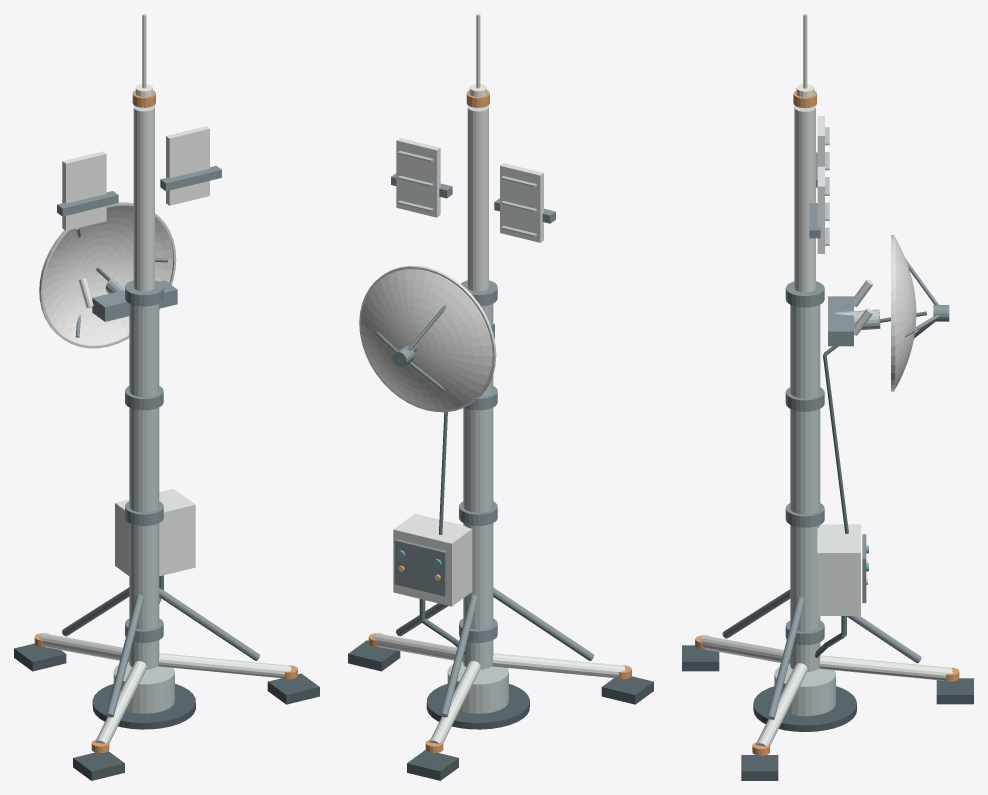
The model's file is comms_antenna.glb.
3 views of the same model, side by side, from view 1: azimuth 30°, elevation 25°; view 2: azimuth 150°, elevation 25°; view 3: azimuth 270°, elevation 25° (orthographic).
Visible parts, largest first — view 1: telescopic_main_alloy, dish_reflector_white_painted, side_survey_panels_white_ceramic, tripod_struts_satin_steel, telescopic_inner_satin_steel, mast_electronics_white_ceramic, tripod_foot_black_rubber, tripod_braces_dark_alloy, mast_collars_dark_alloy, central_foot_black_rubber, base_socket_alloy, side_panel_mounts_dark_alloy (+2 smaller); view 2: dish_reflector_white_painted, telescopic_main_alloy, side_survey_panels_white_ceramic, tripod_struts_satin_steel, telescopic_inner_satin_steel, mast_electronics_white_ceramic, tripod_foot_black_rubber, tripod_braces_dark_alloy, electronic_seal_dark_alloy, central_foot_black_rubber, mast_collars_dark_alloy, base_socket_alloy (+4 smaller); view 3: telescopic_main_alloy, tripod_struts_satin_steel, mast_electronics_white_ceramic, telescopic_inner_satin_steel, tripod_foot_black_rubber, mast_collars_dark_alloy, tripod_braces_dark_alloy, dish_reflector_white_painted, central_foot_black_rubber, base_socket_alloy, dish_yoke_dark_alloy, side_survey_panels_white_ceramic (+2 smaller).
Boxes of the visible parts, left/top/right/bottom form: telescopic_main_alloy: left=129, top=303, right=159, bottom=669; dish_reflector_white_painted: left=43, top=205, right=173, bottom=345; side_survey_panels_white_ceramic: left=62, top=126, right=209, bottom=230; tripod_struts_satin_steel: left=39, top=633, right=290, bottom=743; telescopic_inner_satin_steel: left=133, top=105, right=154, bottom=291; mast_electronics_white_ceramic: left=115, top=488, right=195, bottom=576; tripod_foot_black_rubber: left=14, top=643, right=319, bottom=780; tripod_braces_dark_alloy: left=62, top=587, right=260, bottom=717; mast_collars_dark_alloy: left=125, top=280, right=163, bottom=642; central_foot_black_rubber: left=92, top=683, right=195, bottom=729; base_socket_alloy: left=113, top=662, right=174, bottom=713; side_panel_mounts_dark_alloy: left=57, top=165, right=221, bottom=216; dish_reflector_white_painted: left=360, top=269, right=492, bottom=410; telescopic_main_alloy: left=463, top=304, right=493, bottom=669; side_survey_panels_white_ceramic: left=396, top=138, right=543, bottom=242; tripod_struts_satin_steel: left=373, top=633, right=624, bottom=743; telescopic_inner_satin_steel: left=467, top=105, right=488, bottom=291; mast_electronics_white_ceramic: left=393, top=513, right=472, bottom=606; tripod_foot_black_rubber: left=348, top=640, right=653, bottom=780; tripod_braces_dark_alloy: left=396, top=587, right=594, bottom=717; electronic_seal_dark_alloy: left=394, top=539, right=446, bottom=596; central_foot_black_rubber: left=426, top=683, right=529, bottom=729; mast_collars_dark_alloy: left=459, top=280, right=497, bottom=642; base_socket_alloy: left=447, top=662, right=508, bottom=713; telescopic_main_alloy: left=790, top=305, right=820, bottom=671; tripod_struts_satin_steel: left=699, top=635, right=952, bottom=746; mast_electronics_white_ceramic: left=817, top=524, right=860, bottom=615; telescopic_inner_satin_steel: left=794, top=105, right=815, bottom=292; tripod_foot_black_rubber: left=682, top=645, right=973, bottom=780; mast_collars_dark_alloy: left=785, top=281, right=824, bottom=645; tripod_braces_dark_alloy: left=722, top=589, right=921, bottom=719; dish_reflector_white_painted: left=894, top=237, right=916, bottom=388; central_foot_black_rubber: left=753, top=686, right=856, bottom=731; base_socket_alloy: left=774, top=664, right=835, bottom=716; dish_yoke_dark_alloy: left=828, top=296, right=853, bottom=346; side_survey_panels_white_ceramic: left=817, top=116, right=824, bottom=253.
Bounding box in the file's own units: 1.84 × 4.74 × 1.8.
